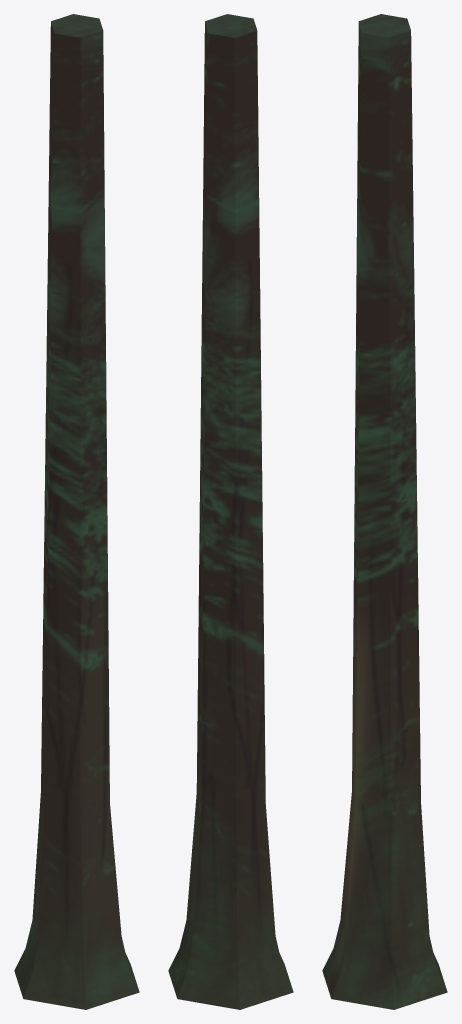
Rendered from polysurface107_lambert6_0.003_lev2.glb.
3 views of the same model, side by side, from view 1: azimuth 90°, elevation 25°; view 2: azimuth 150°, elevation 25°; view 3: azimuth 270°, elevation 25° (orthographic).
Visible parts, largest first — view 1: polysurface107_lambert6_0.003_lev2; view 2: polysurface107_lambert6_0.003_lev2; view 3: polysurface107_lambert6_0.003_lev2.
Part boxes in pixels (x1,y1,x2,y2): polysurface107_lambert6_0.003_lev2: (14,14,139,1009); polysurface107_lambert6_0.003_lev2: (168,14,293,1009); polysurface107_lambert6_0.003_lev2: (322,14,447,1009).
Size of the model in its own units: 0.9662 by 7.58 by 0.9018.
1 material, 1 textured.
